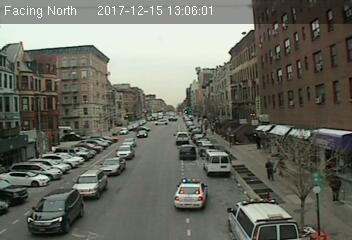car: (25, 188, 84, 234), (72, 170, 107, 198), (99, 158, 126, 175), (177, 144, 197, 159), (115, 146, 136, 159), (174, 132, 189, 144), (123, 137, 136, 146)
pedestrian: (264, 159, 276, 182), (278, 157, 286, 178)
police: (226, 196, 303, 240), (173, 178, 210, 213)
truck: (205, 151, 232, 175)
